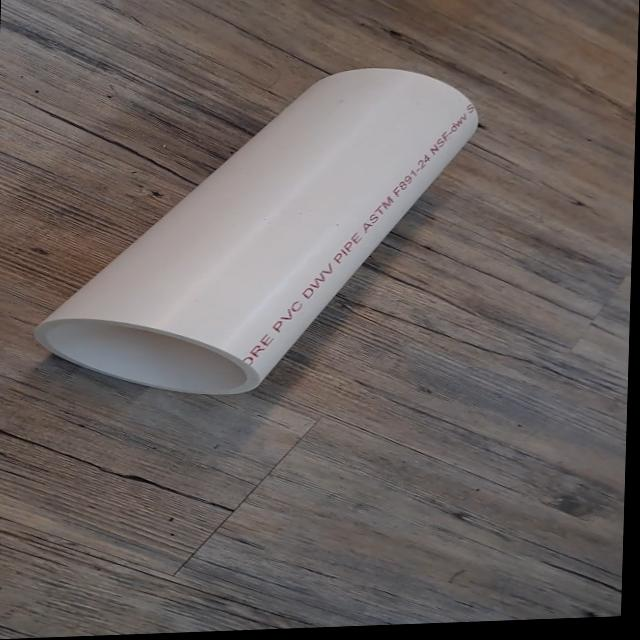CORAL: (22, 58, 488, 405)
